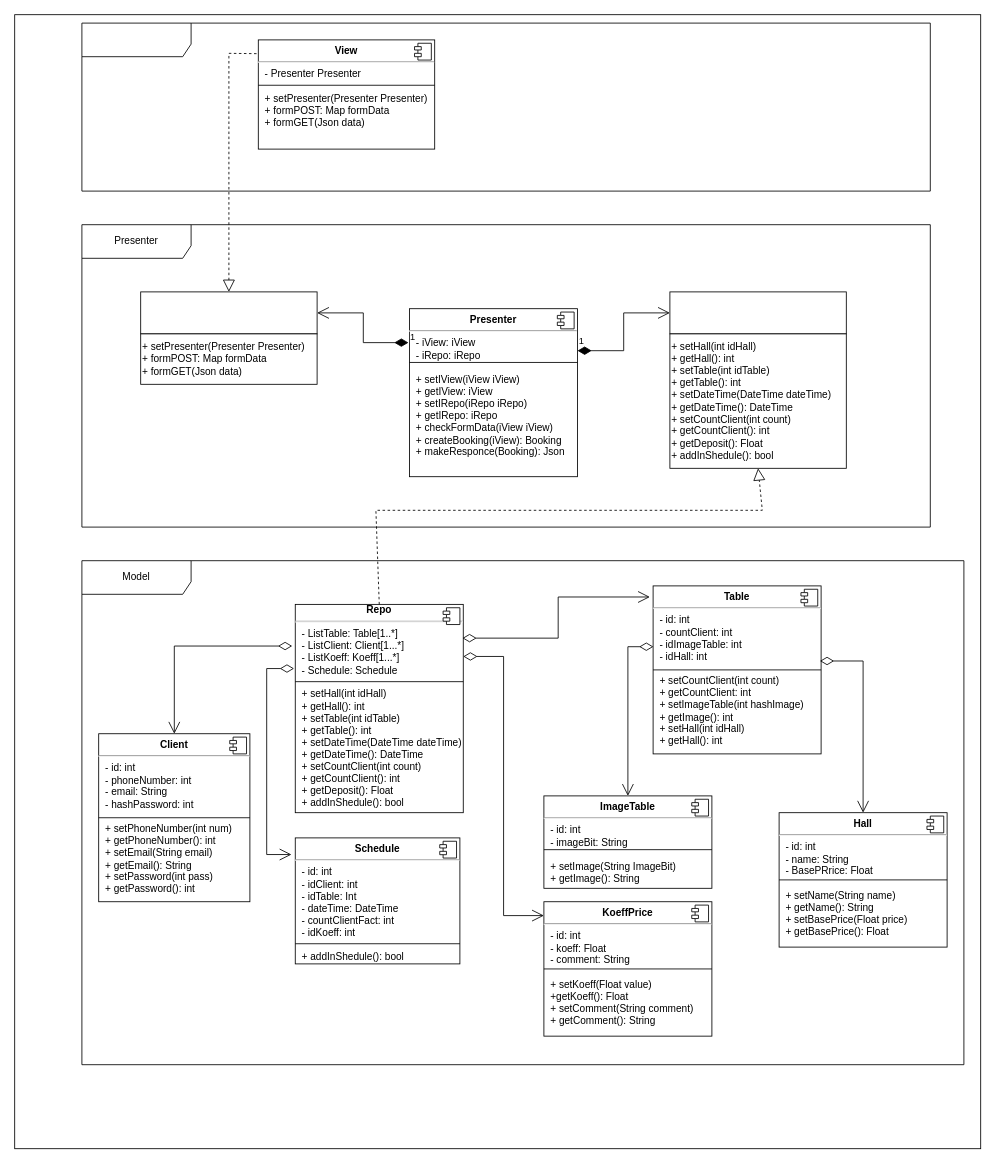
This 995x1163 diagram has some shape labels left out. The centre of each missing label's shape, as x and y in pixels:
"View" goes at (505,106).
"«interface» iRepo" goes at (757,312).
"«interface» iView" goes at (228,312).
